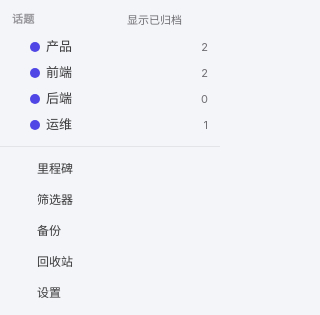
Test case: 右键菜单 › 含 重命名 / 改色 / 新建子话题 / 归档 四项
Step 1. Right-click the list item with test id "topic-row-p-fe" → {"x": 35, "y": 73}, box [8,60,212,86]
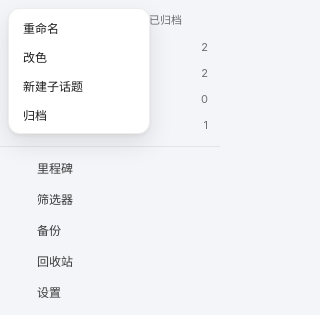
Expected: the menu item "重命名" is shown, [13,13,145,42]
Expected: the menu item "改色" is shown, [13,42,145,71]
Expected: the menu item "新建子话题" is shown, [13,71,145,100]
